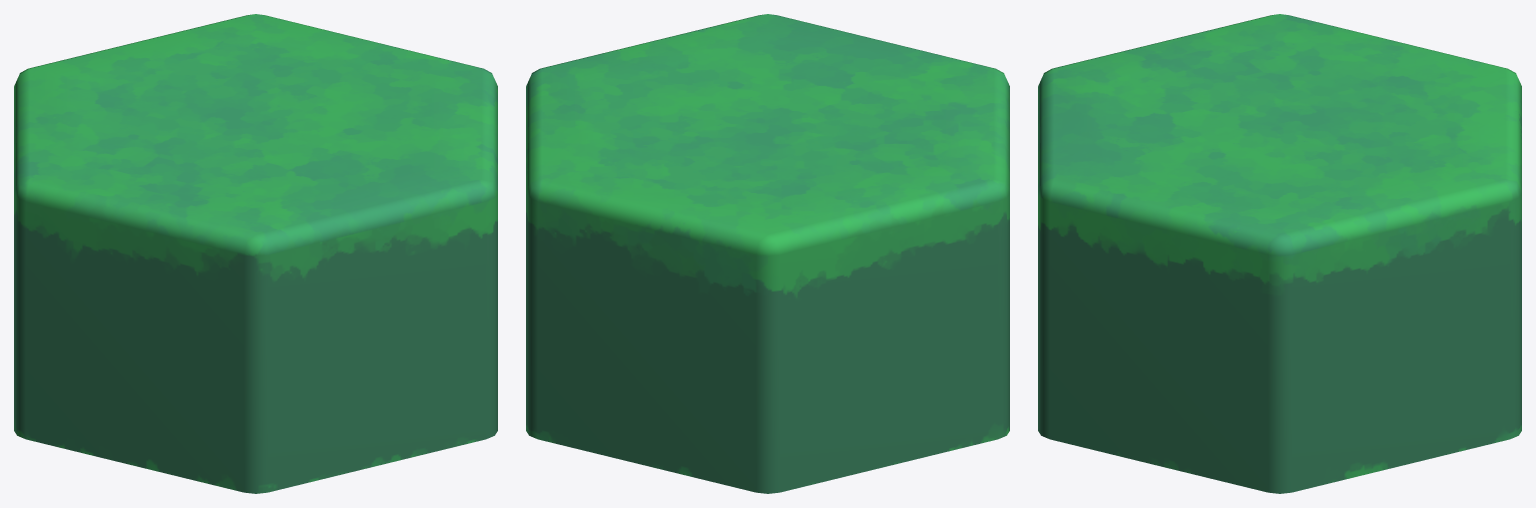
Rendered from Hexagon_Grass_01.fbx.
3 renders of one model, left to right at view 1: azimuth 30°, elevation 25°; view 2: azimuth 150°, elevation 25°; view 3: azimuth 270°, elevation 25°, orthographic.
Visible parts, largest first — view 1: Hexagon_Grass_01; view 2: Hexagon_Grass_01; view 3: Hexagon_Grass_01.
Boxes of the visible parts, bbox=[...] form: Hexagon_Grass_01: bbox=[14, 14, 497, 493]; Hexagon_Grass_01: bbox=[526, 14, 1009, 493]; Hexagon_Grass_01: bbox=[1038, 14, 1521, 493].
Bounding box in the file's own units: 227 × 115 × 199.
